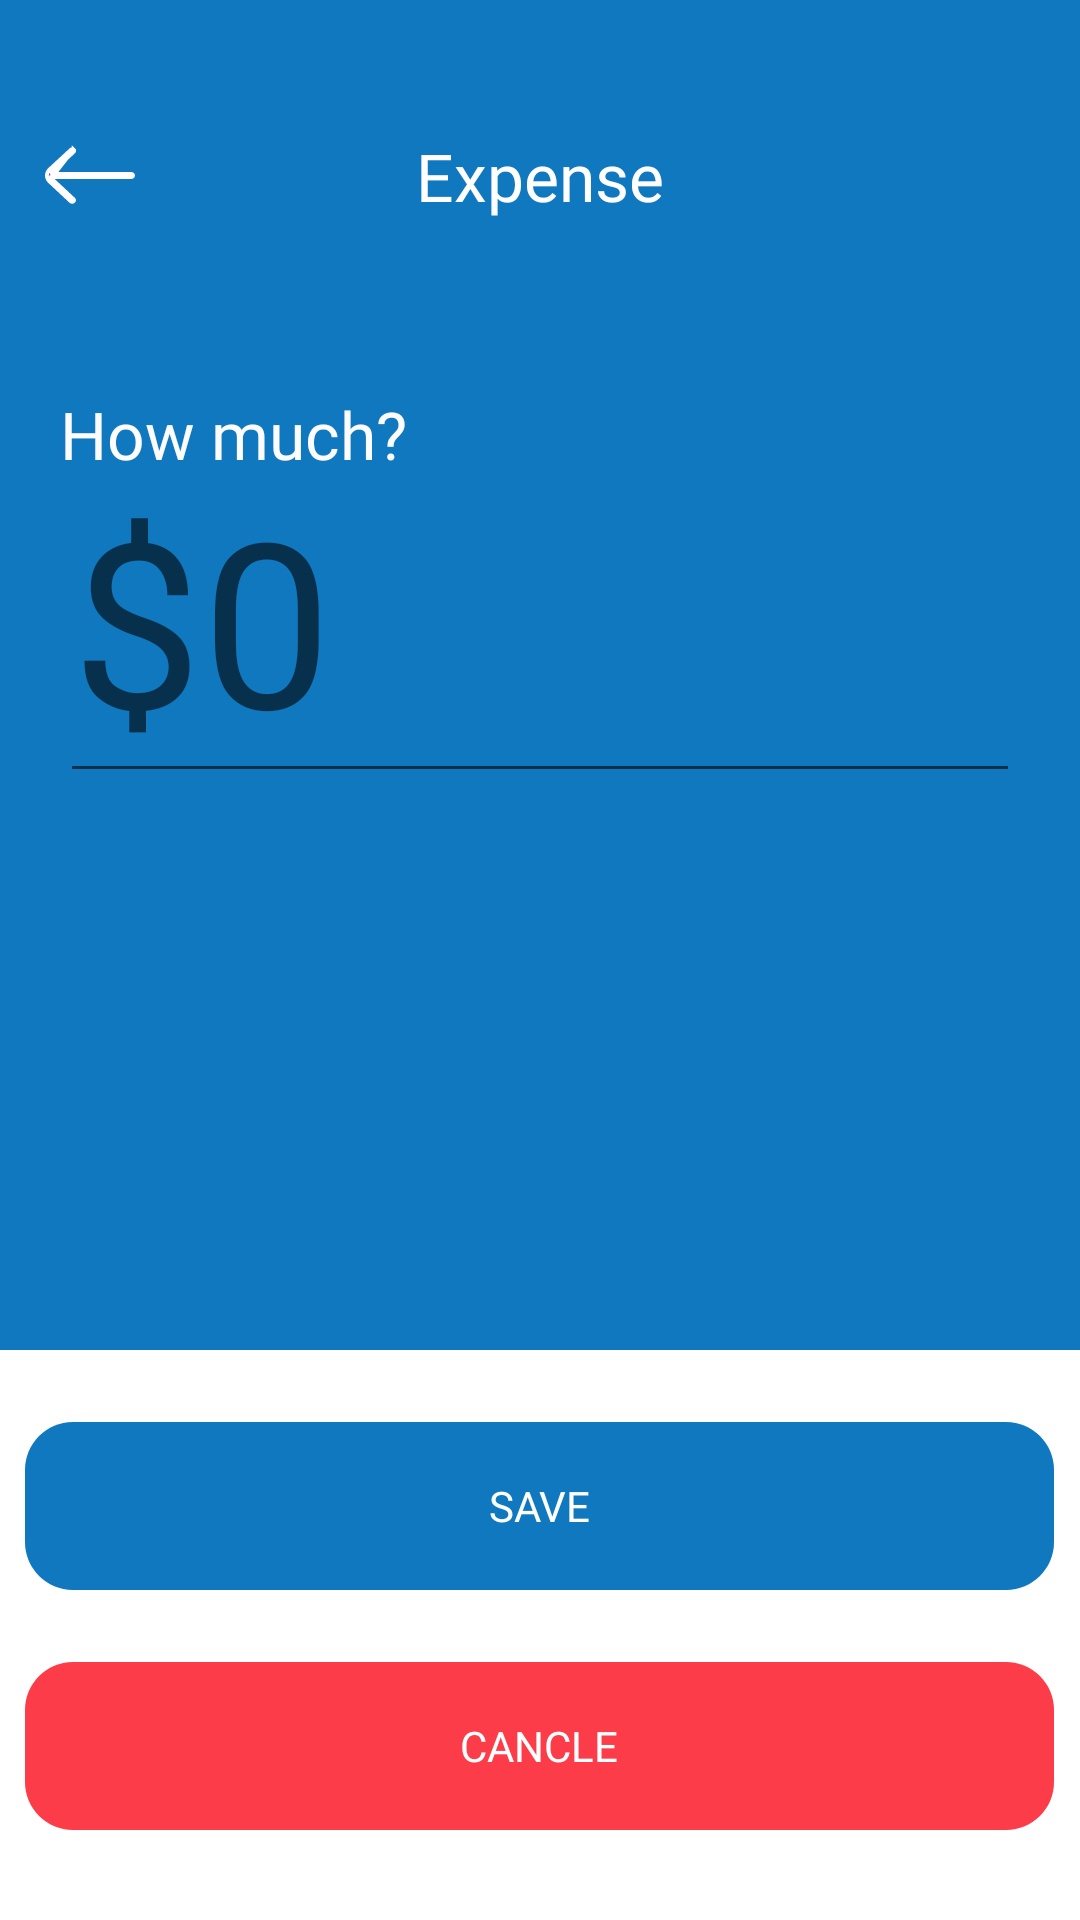

Icon bounding boxes for this 1080px×1920px phone screenshot, format detection(x1, y1, x2, y2):
arrow top back: detection(45, 145, 135, 204)
